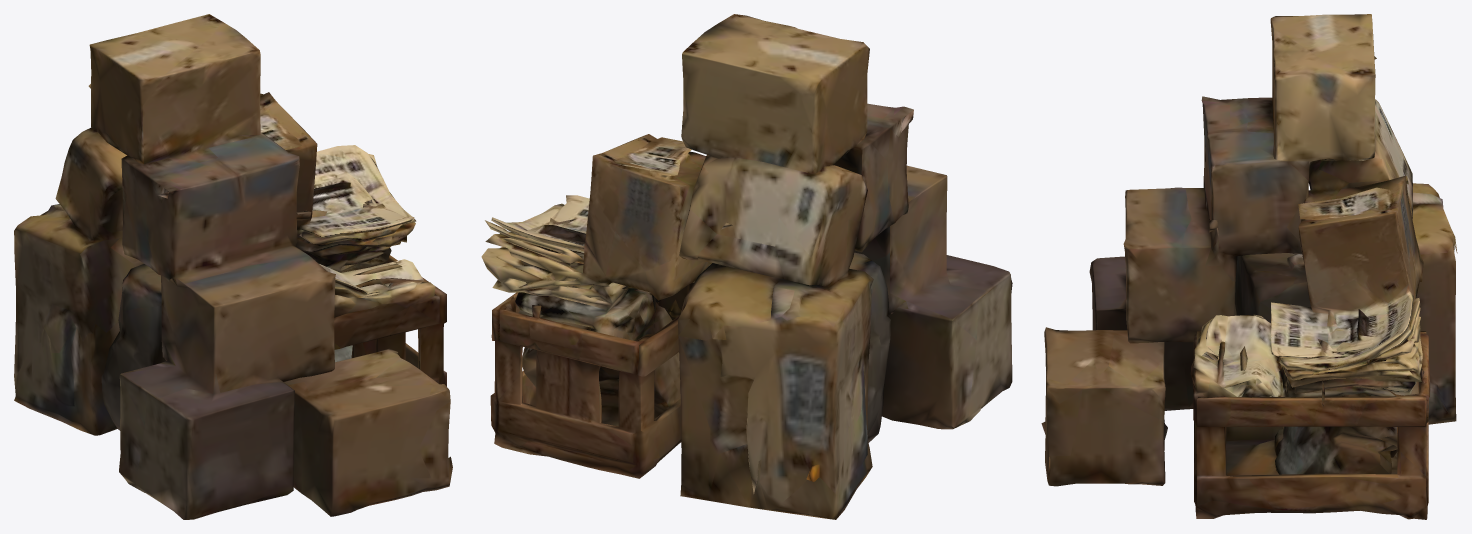
The model's file is cel_junk.glb.
3 views of the same model, side by side, from view 1: azimuth 30°, elevation 25°; view 2: azimuth 150°, elevation 25°; view 3: azimuth 270°, elevation 25° (orthographic). The views are drawn at different scales.
Visible parts, largest first — view 1: tripo_node_dce56c56-409f-48b4-a177-84269e6438bf; view 2: tripo_node_dce56c56-409f-48b4-a177-84269e6438bf; view 3: tripo_node_dce56c56-409f-48b4-a177-84269e6438bf.
Boxes of the visible parts, left/top/right/bottom form: tripo_node_dce56c56-409f-48b4-a177-84269e6438bf: left=14, top=14, right=452, bottom=519; tripo_node_dce56c56-409f-48b4-a177-84269e6438bf: left=481, top=14, right=1012, bottom=519; tripo_node_dce56c56-409f-48b4-a177-84269e6438bf: left=1041, top=14, right=1457, bottom=519.
Size of the model in its own units: 0.9538 by 0.9995 by 0.9943.
1 material, 1 textured.
